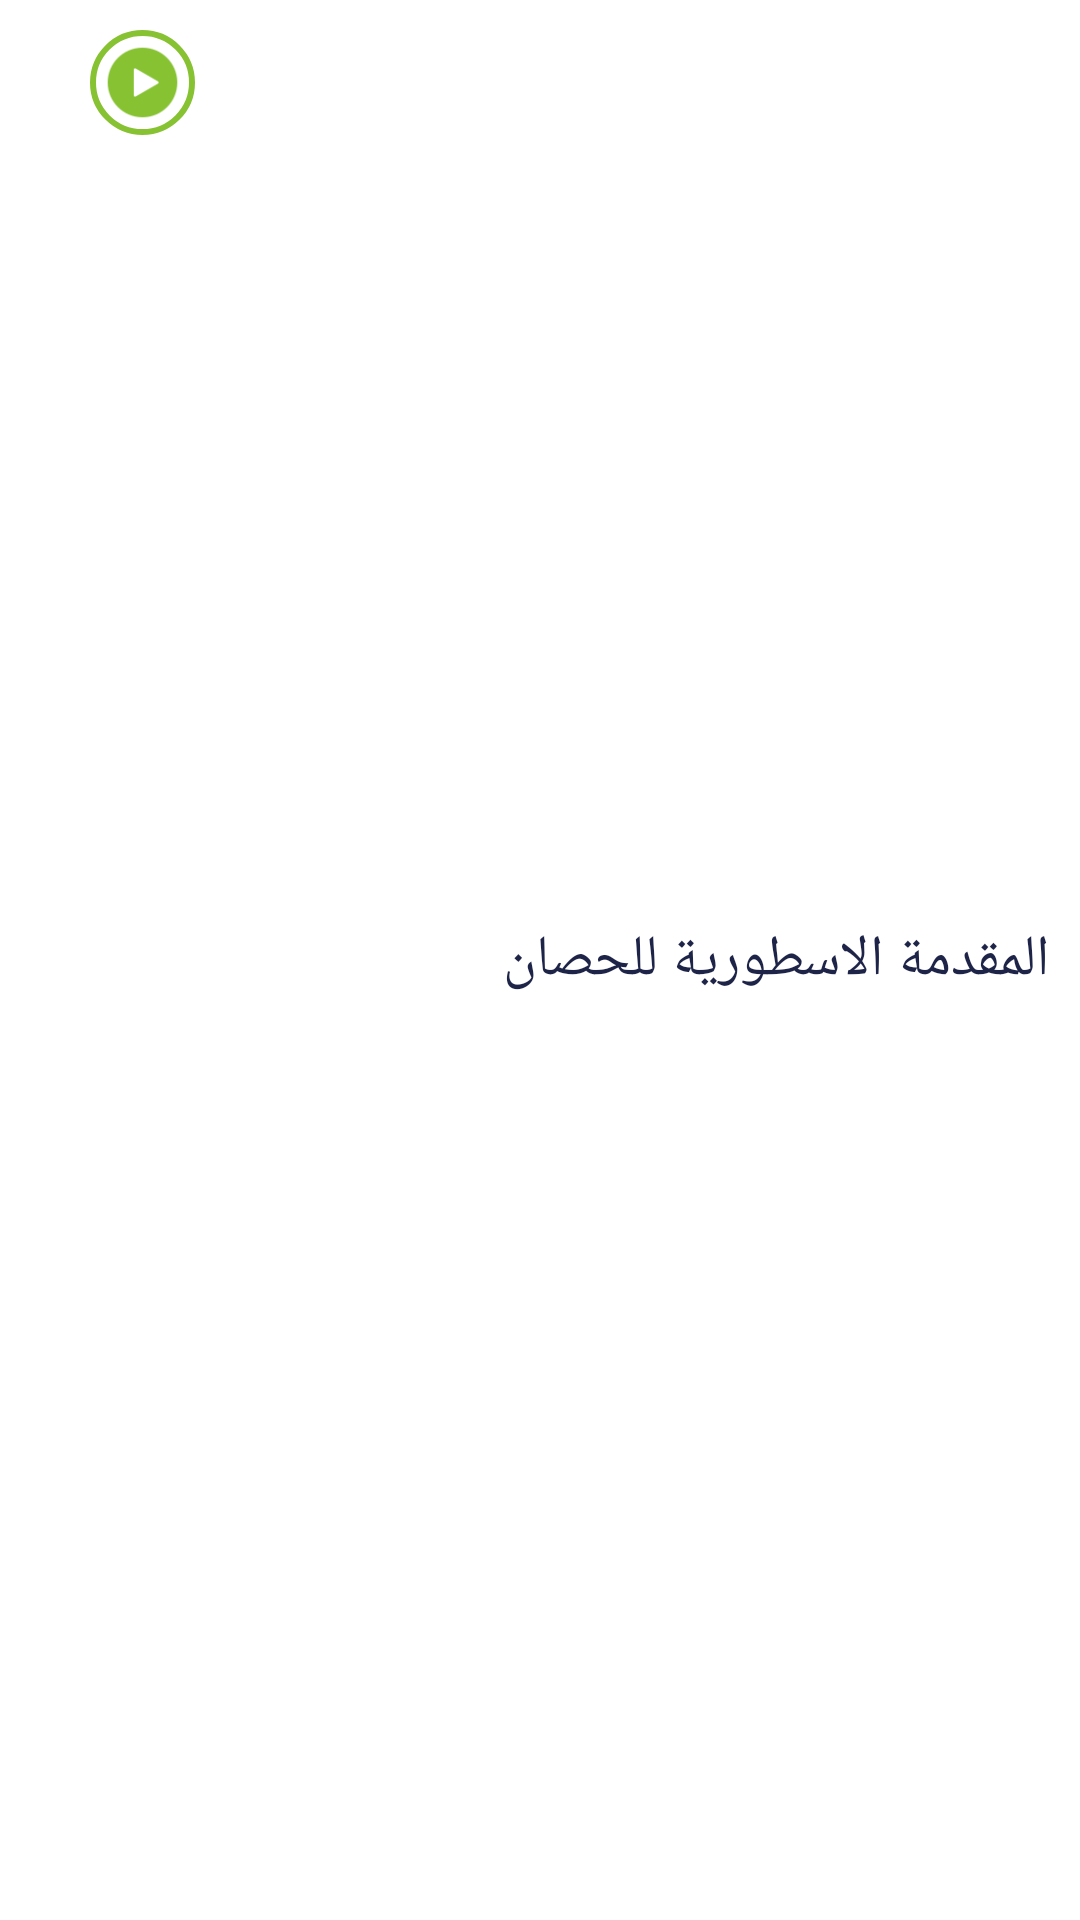

Icon click points for this 1080 x 1920 phone screenshot, format (x=x, y=y):
play: (x=142, y=82)
